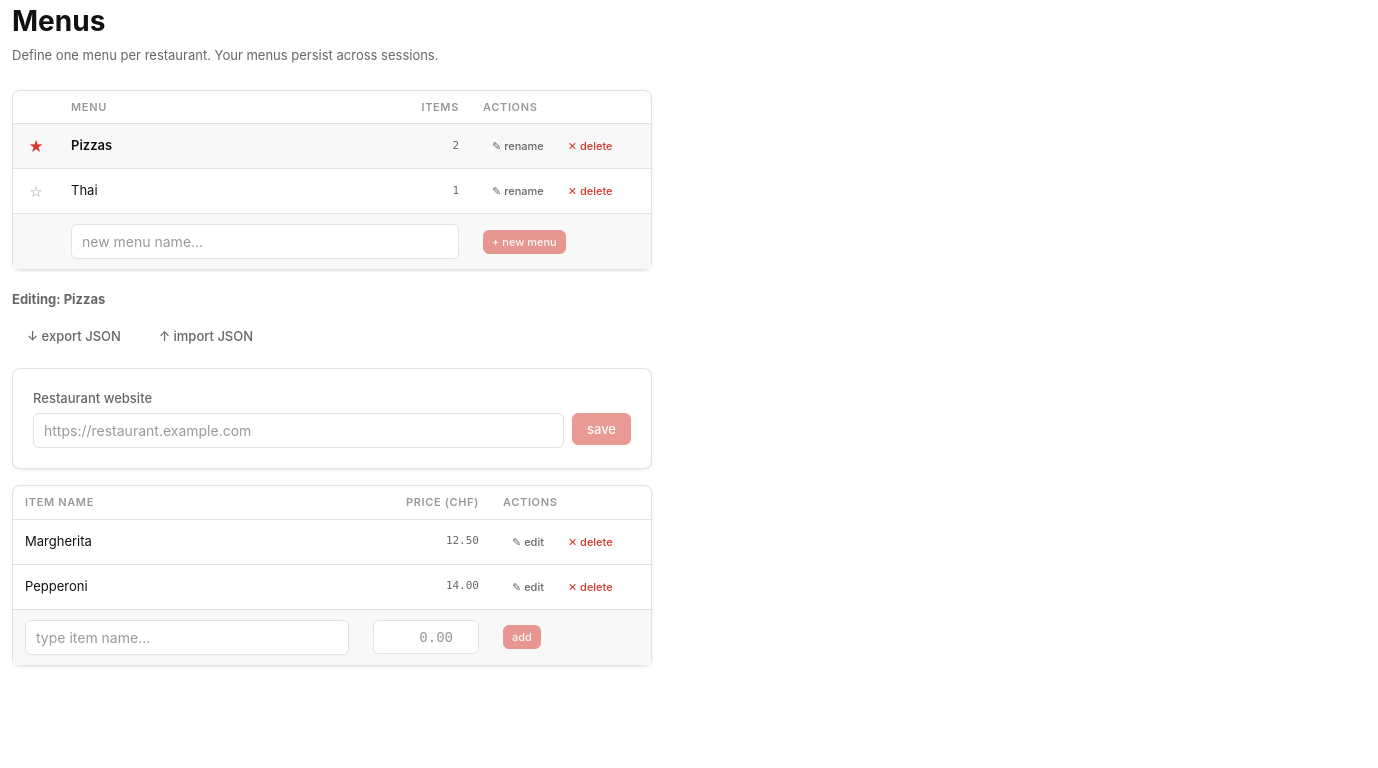
Test: Menus › deleting a menu › surfaces the server error when deletion is rejected (menu in use)
Click the 1st button "✕ delete": x=590, y=146 x1=559 y1=134 x2=622 y2=158
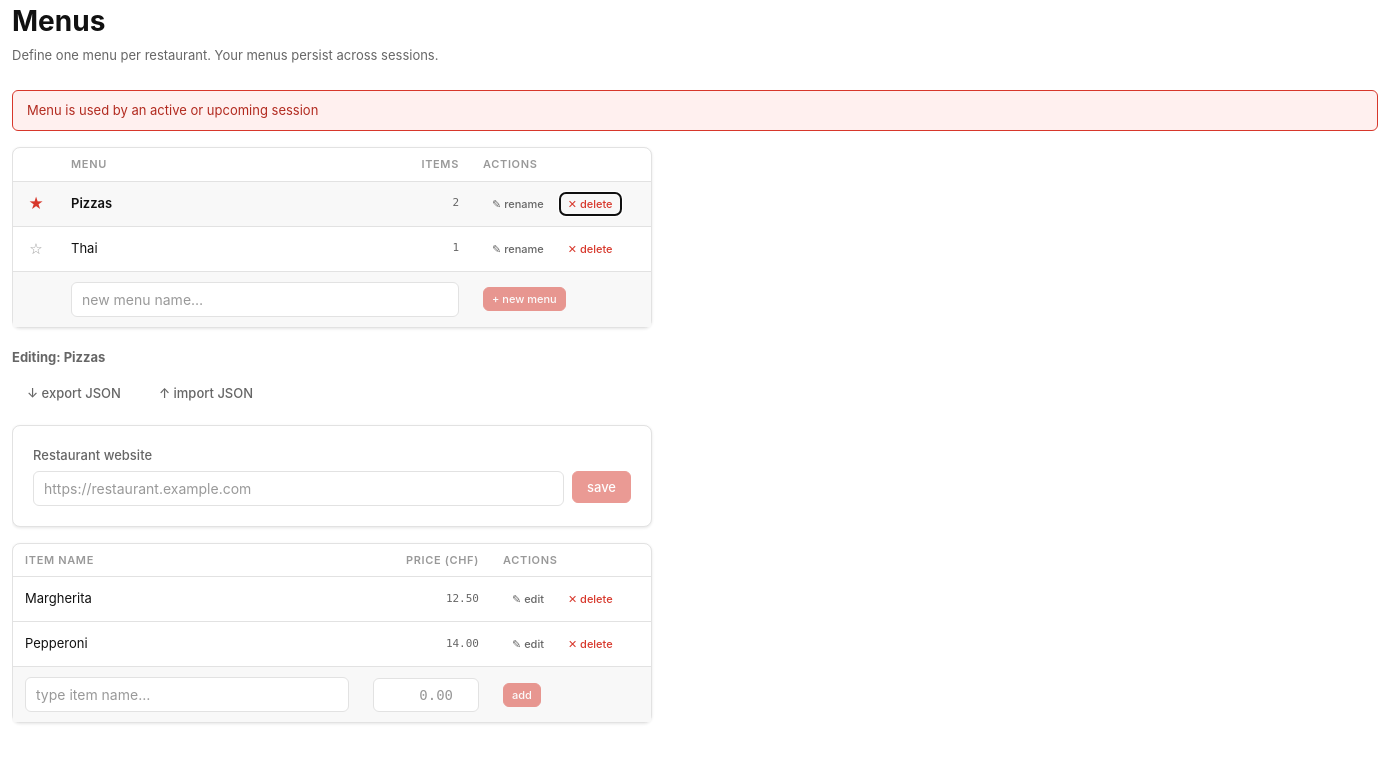
Expected: the text "Menu is used by an active or upcoming session" is shown, x1=12 y1=90 x2=1377 y2=131
